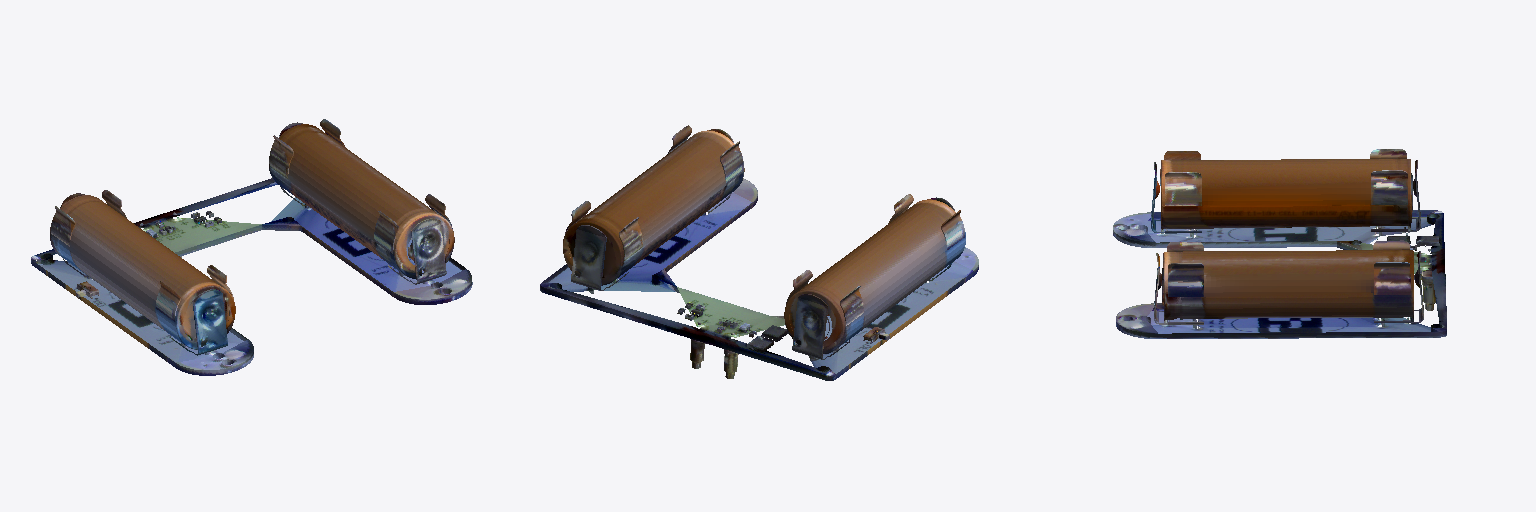
The picture shows the model from 3 angles: view 1: azimuth 30°, elevation 25°; view 2: azimuth 150°, elevation 25°; view 3: azimuth 270°, elevation 25°; orthographic projection.
Size of the model in its own units: 89.96 by 33.71 by 86.84.
Materials: 4 (4 with a texture image).